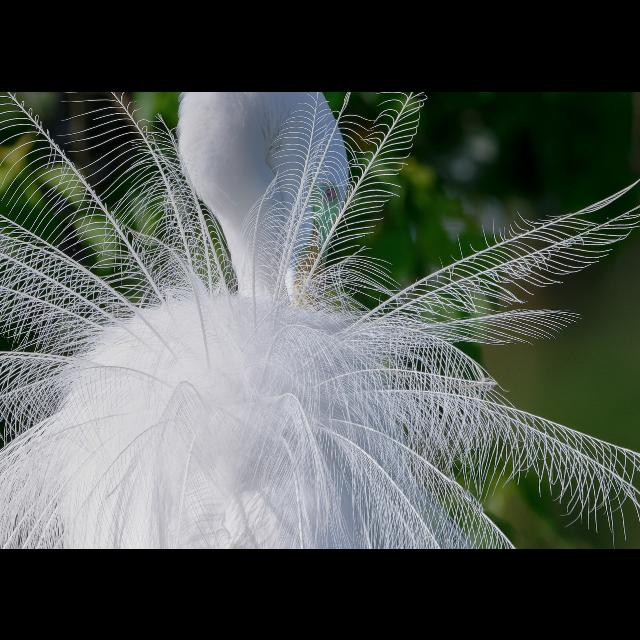egret: (2, 92, 640, 548)
